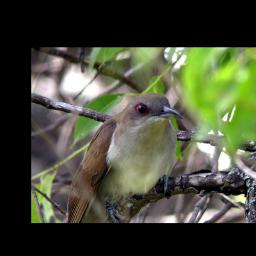Cuckoo: (67, 92, 183, 223)
